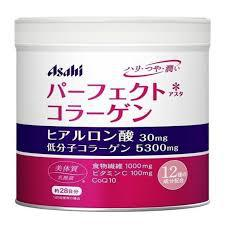beer: (12, 15, 213, 209)
